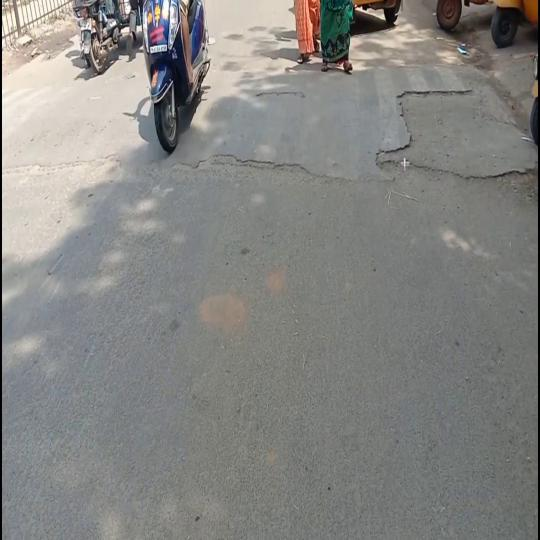Speed Bump: (209, 64, 532, 186), (3, 58, 149, 168)
